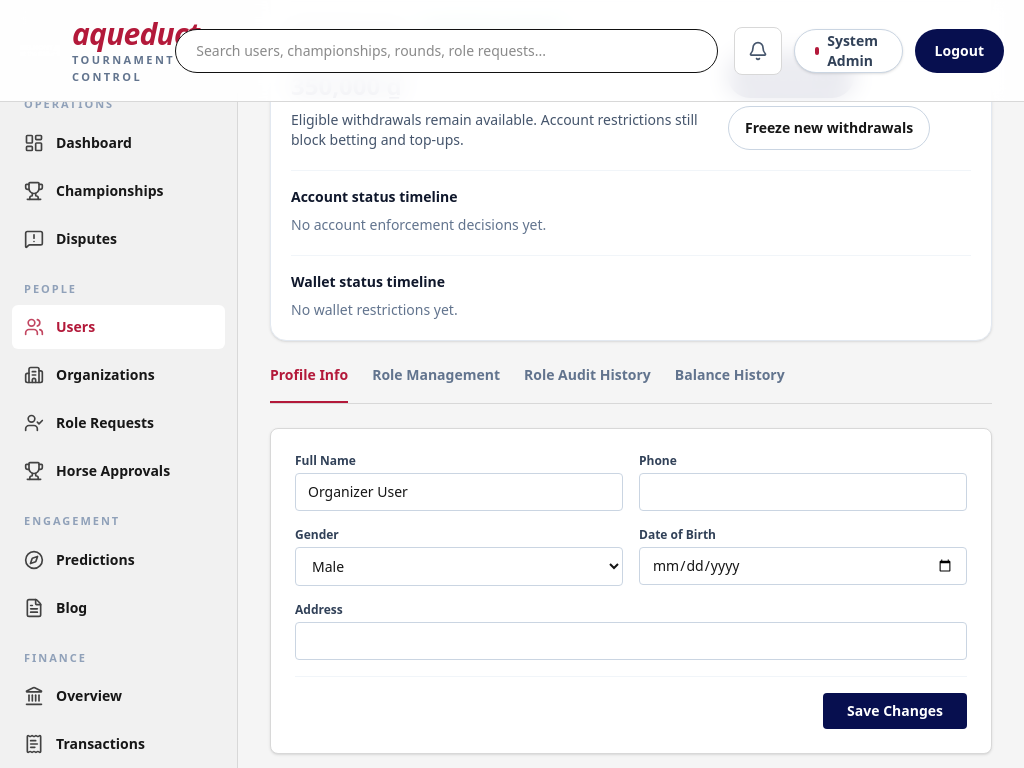
Test: AdminUserDetailPage › shows the organizer role as selected and system-managed
(page scrolled)
Expected: the text "Withdrawals available" is shown, [415,22,571,42]
Click the button "Role Management": (436, 384) [372,365,500,403]
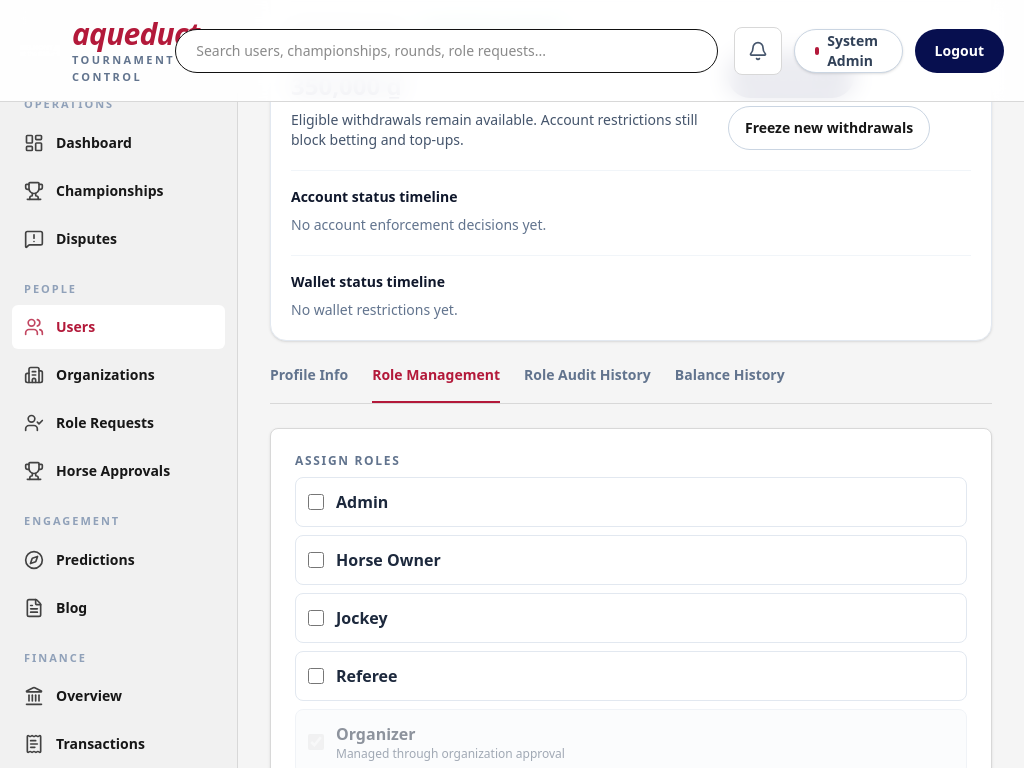
Expected: the text "Managed through organization approval" is shown, [336,746,565,762]
